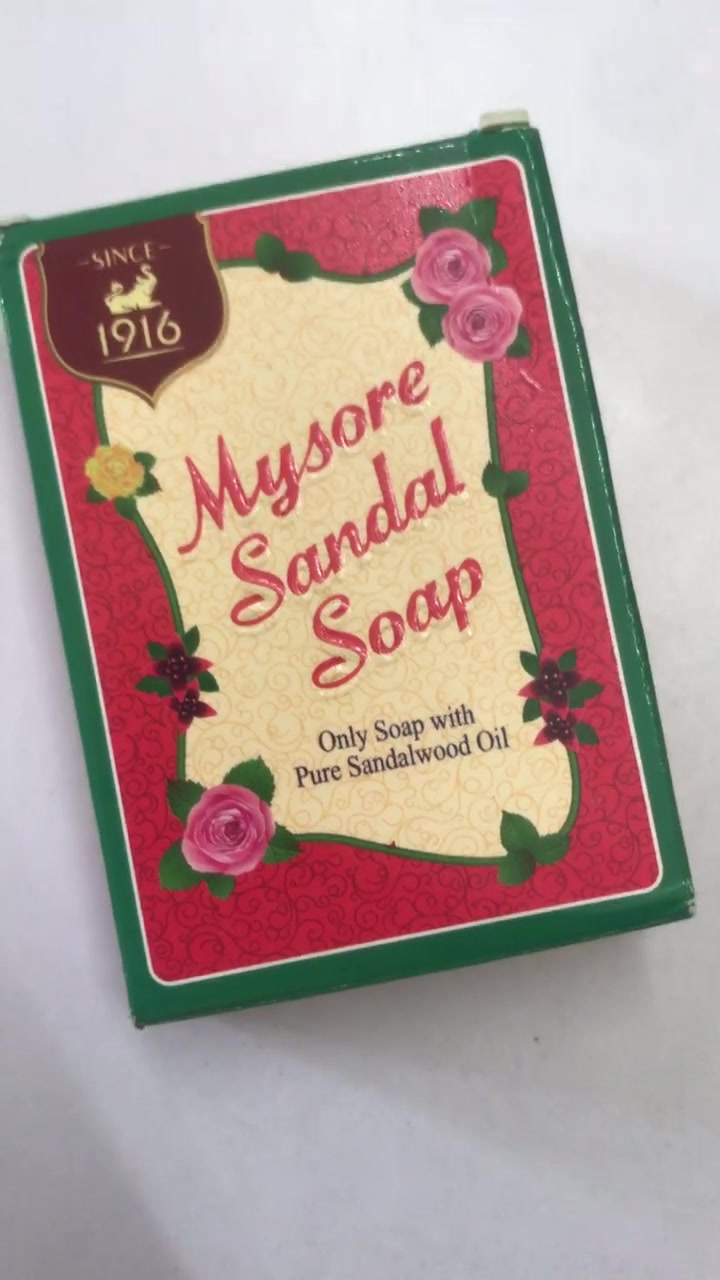mysore sandal soap: (8, 130, 695, 1027)
